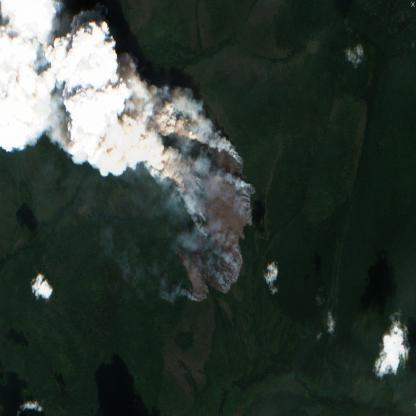fire: (144, 87, 255, 306)
